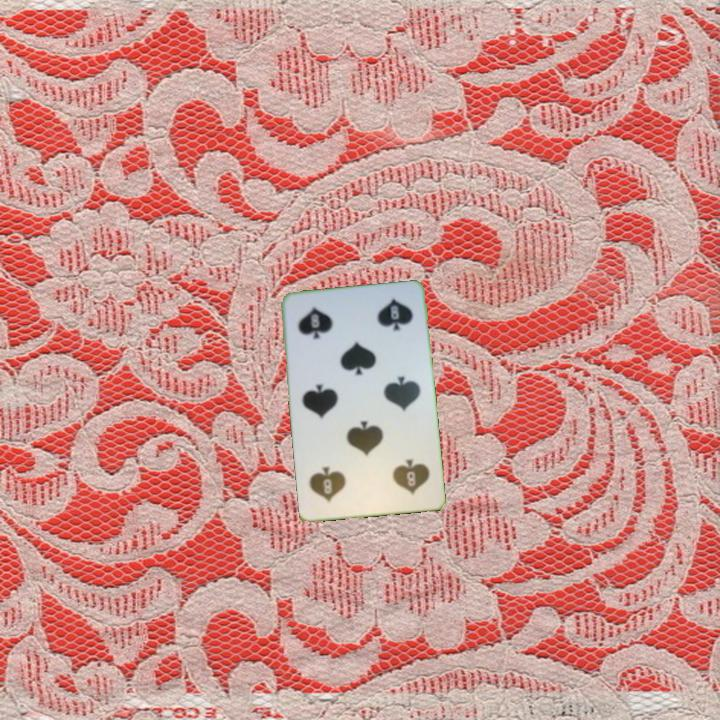s_8.png: (289, 296, 360, 359), (364, 443, 435, 506)
